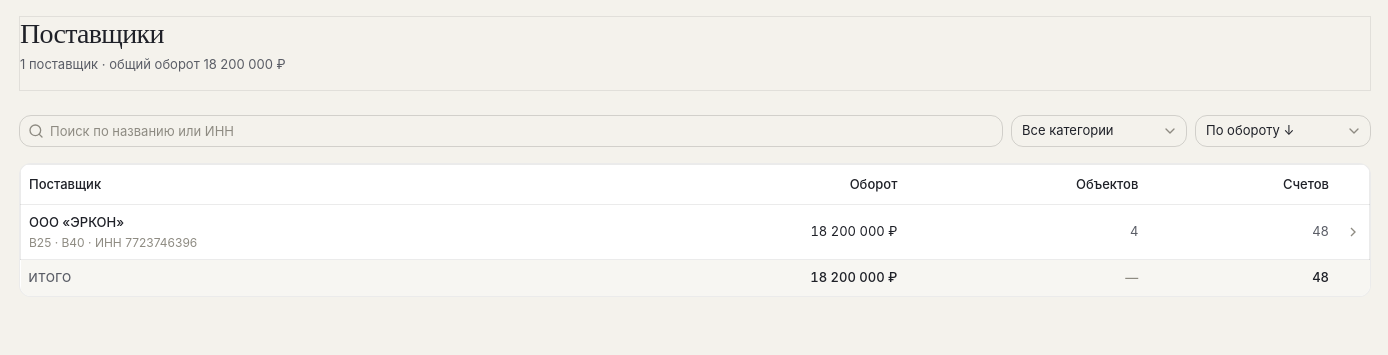
Test: Suppliers › filters out supplier when search has no match
Expected: the text "ООО «ЭРКОН»" is shown, [29, 213, 124, 233]
Type "НесуществующееНазвание" into the field with placeholder "Поиск по названию или ИНН".
click(523, 131); type("НесуществующееНазвание")  # box [44, 113, 1002, 149]
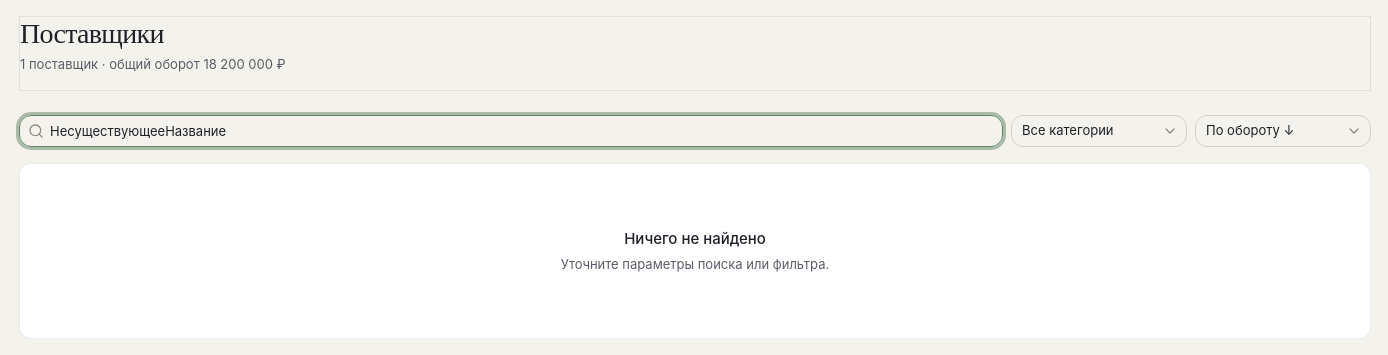
Now the button "ООО «ЭРКОН»" is gone
Now the heading "Ничего не найдено" is shown, box [624, 228, 766, 251]
